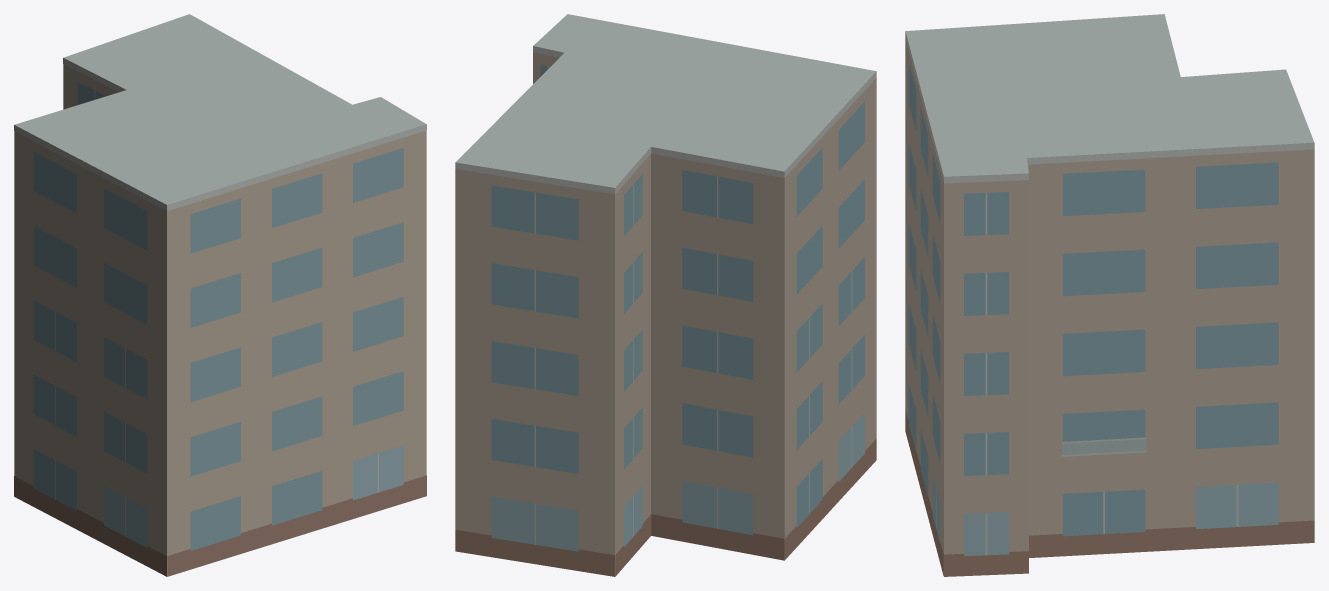
File: survey-upis-32979375.glb
3 views of the same model, side by side, from view 1: azimuth 30°, elevation 25°; view 2: azimuth 150°, elevation 25°; view 3: azimuth 270°, elevation 25° (orthographic). The views are drawn at different scales.
Parts seen in each view (by area): view 1: survey-upis-32979375.tmp; view 2: survey-upis-32979375.tmp; view 3: survey-upis-32979375.tmp.
Boxes of the visible parts, x1,y1,x2,y2 form: survey-upis-32979375.tmp: (14,14,426,576); survey-upis-32979375.tmp: (455,14,876,576); survey-upis-32979375.tmp: (905,14,1314,576).
Bounding box in the file's own units: 12.75 × 14.6 × 13.54.
